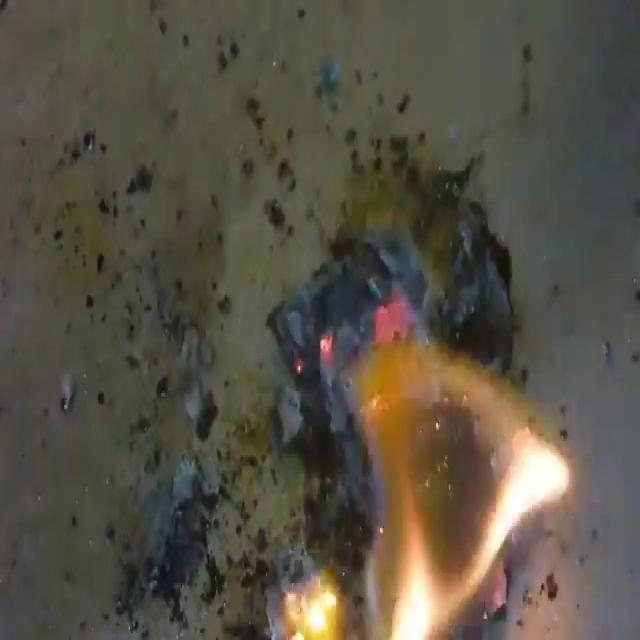Fire: (226, 219, 580, 640)
